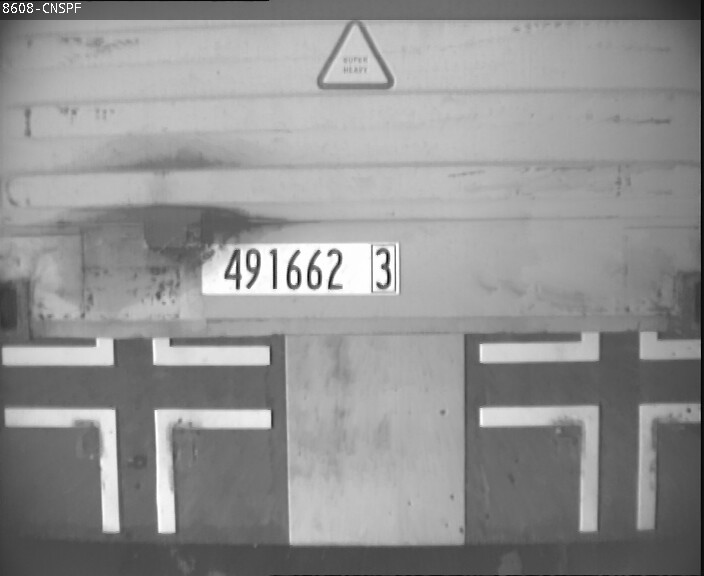groundmarker_1: (4, 407, 271, 532), (480, 403, 704, 530)
